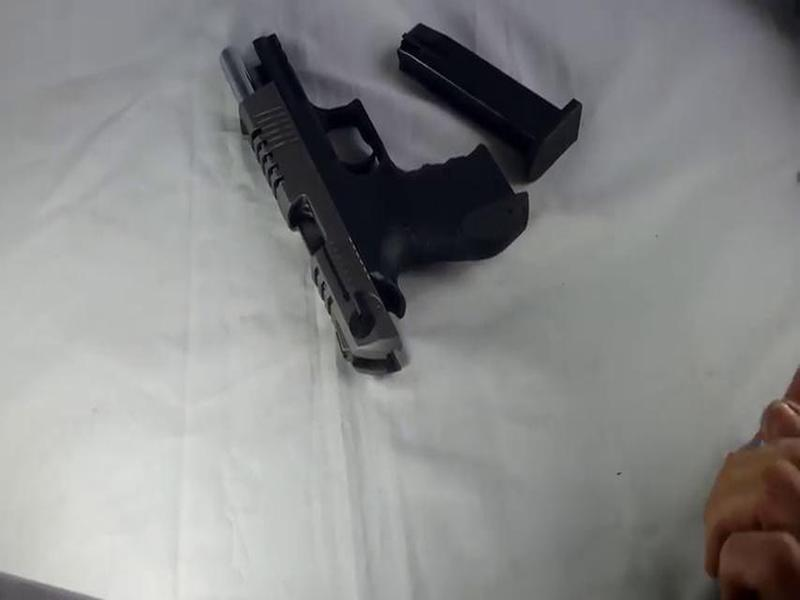Pistola: (200, 34, 541, 368)
